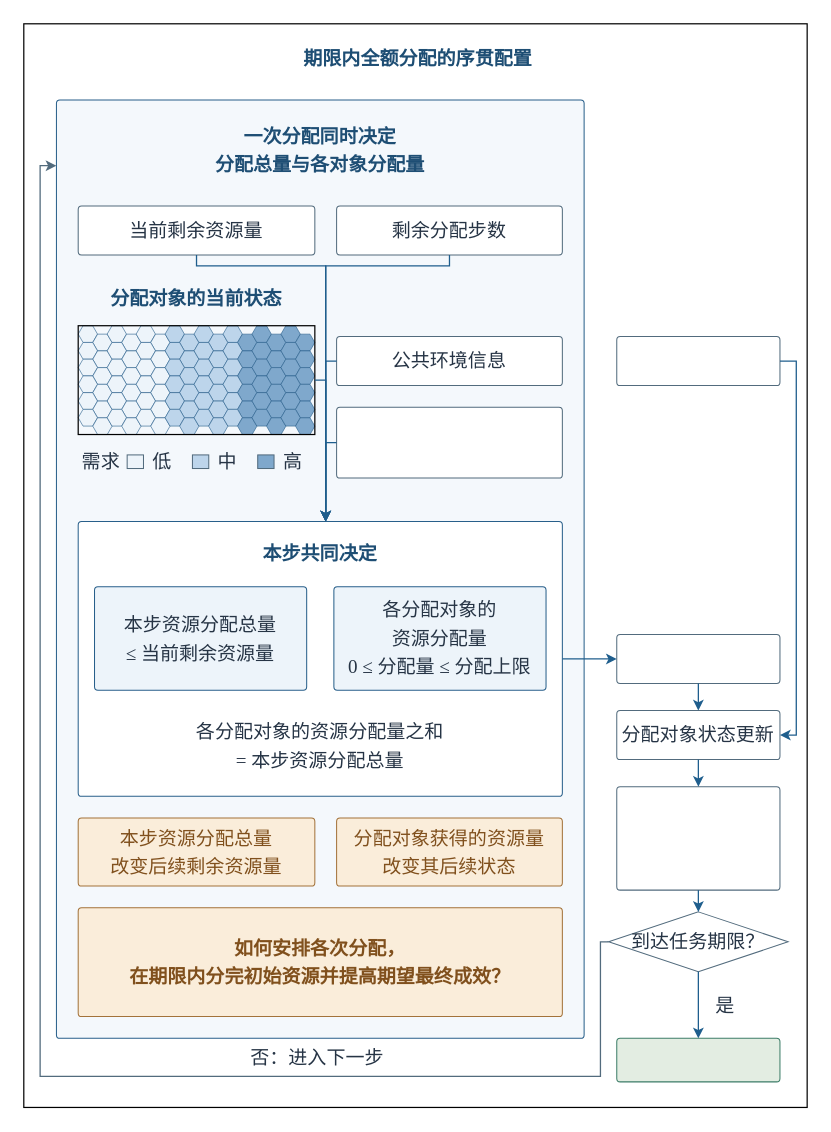
This 831x1132 diagram has some shape labels left out. Each missing label, with the centre of its shape:
"各分配对象的 资源分配量上限" belongs at (x=448, y=442).
"执行分配方案" belongs at (x=698, y=658).
"更新剩余资源量" belongs at (x=698, y=838).
"环境变化" belongs at (x=698, y=360).
"评价最终成效" belongs at (x=698, y=1059).
